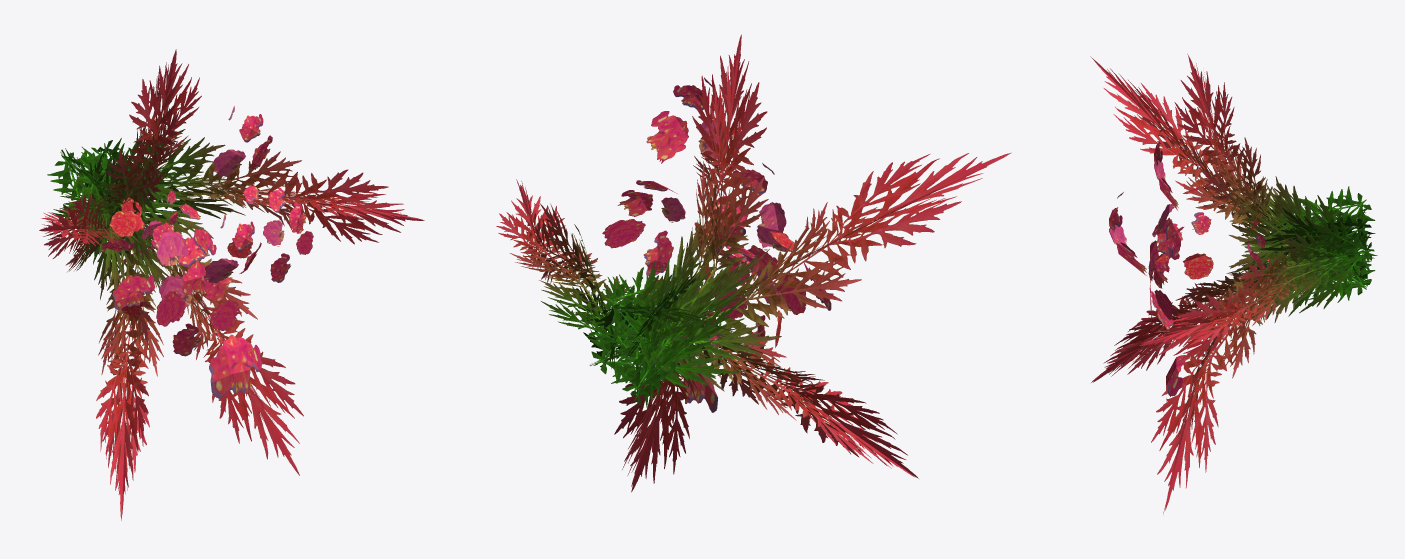
Rendered from xila_yewai_45_xiaohua_01.obj.
3 renders of one model, left to right at view 1: azimuth 30°, elevation 25°; view 2: azimuth 150°, elevation 25°; view 3: azimuth 270°, elevation 25°, orthographic. The views are drawn at different scales.
Visible parts, largest first — view 1: Plane14, Plane18, Plane16, Plane15, Plane07, Plane12, Plane17, Plane19, Plane13, Plane11, Plane06, Plane05; view 2: Plane17, Plane15, Plane14, Plane18, Plane16, Plane13, Plane11, Plane07, Plane06, Plane12, Plane19; view 3: Plane18, Plane16, Plane15, Plane17, Plane14, Plane07, Plane13, Plane12, Plane06, Plane11, Plane19.
Part boxes in pixels (left/top/right/bottom): Plane14: left=74, top=138, right=163, bottom=520; Plane18: left=82, top=129, right=424, bottom=244; Plane16: left=47, top=148, right=303, bottom=475; Plane15: left=51, top=49, right=201, bottom=262; Plane07: left=109, top=203, right=216, bottom=326; Plane12: left=121, top=222, right=239, bottom=356; Plane17: left=39, top=182, right=151, bottom=271; Plane19: left=209, top=334, right=269, bottom=401; Plane13: left=227, top=185, right=313, bottom=282; Plane11: left=213, top=106, right=272, bottom=178; Plane06: left=204, top=213, right=261, bottom=284; Plane05: left=98, top=190, right=178, bottom=262; Plane17: left=588, top=152, right=1011, bottom=388; Plane15: left=611, top=34, right=768, bottom=407; Plane14: left=595, top=267, right=918, bottom=478; Plane18: left=496, top=179, right=650, bottom=368; Plane16: left=609, top=271, right=698, bottom=492; Plane13: left=602, top=180, right=703, bottom=276; Plane11: left=646, top=77, right=724, bottom=163; Plane07: left=693, top=224, right=831, bottom=314; Plane06: left=702, top=163, right=786, bottom=250; Plane12: left=713, top=237, right=782, bottom=361; Plane19: left=664, top=361, right=717, bottom=412; Plane18: left=1139, top=220, right=1377, bottom=362; Plane16: left=1151, top=186, right=1375, bottom=513; Plane15: left=1174, top=54, right=1374, bottom=300; Plane17: left=1090, top=56, right=1374, bottom=299; Plane14: left=1091, top=209, right=1375, bottom=382; Plane07: left=1150, top=183, right=1211, bottom=262; Plane13: left=1148, top=227, right=1183, bottom=324; Plane12: left=1150, top=229, right=1213, bottom=331; Plane06: left=1109, top=192, right=1146, bottom=275; Plane11: left=1154, top=127, right=1178, bottom=210; Plane19: left=1166, top=355, right=1190, bottom=435.
Bounding box in the file's own units: 140 × 143 × 89.39.
1 material, 1 textured.
